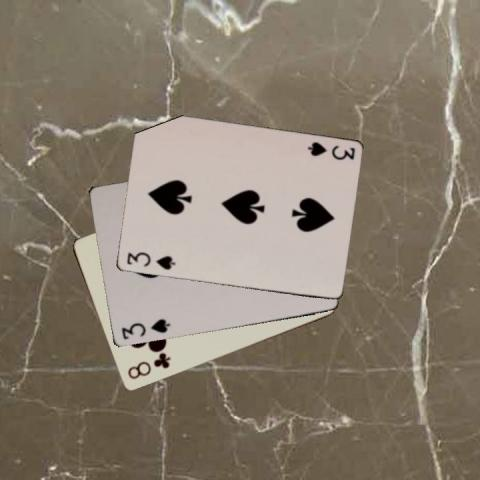3s: (118, 316, 171, 341), (304, 139, 356, 162), (123, 250, 176, 272)
8c: (124, 352, 172, 382)
